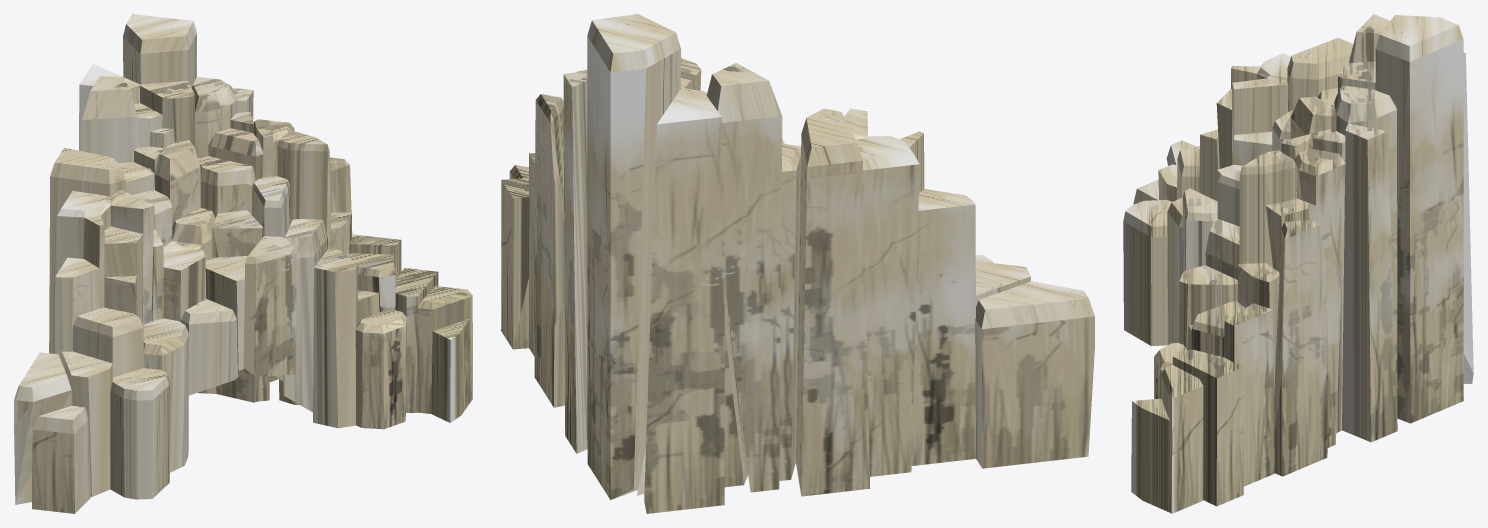
The model's file is cave.FBX.
The picture shows the model from 3 angles, left to right: view 1: azimuth 30°, elevation 25°; view 2: azimuth 150°, elevation 25°; view 3: azimuth 270°, elevation 25°; orthographic projection. The views are drawn at different scales.
Visible parts, largest first — view 1: cave; view 2: cave; view 3: cave.
Part boxes in pixels (x1,y1,x2,y2): cave: (14,14,472,513); cave: (501,14,1094,513); cave: (1123,14,1473,513).
Size of the model in its own units: 60.58 by 43.55 by 36.76.
